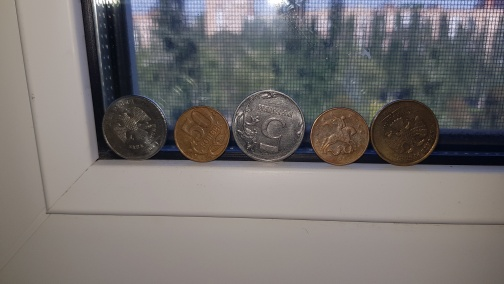coin: (232, 89, 306, 163), (370, 99, 440, 166), (102, 94, 169, 161), (309, 107, 371, 167), (174, 106, 231, 162)
